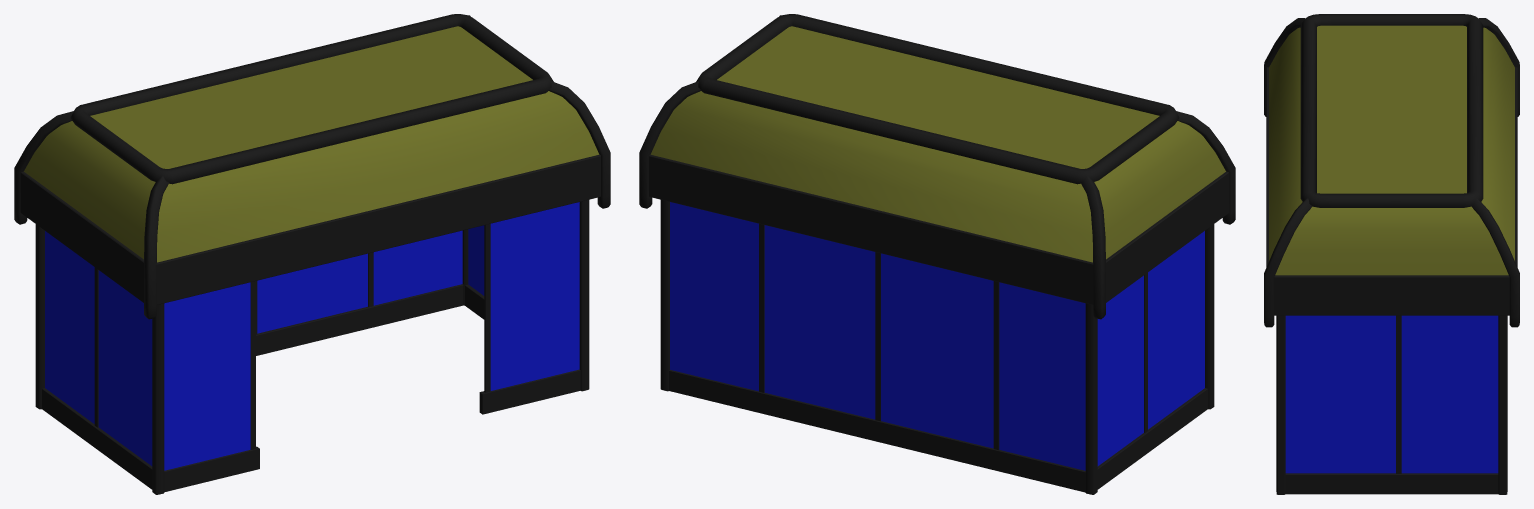
Rendered from Abris_bus_Metal_01.FBX.
3 renders of one model, left to right at view 1: azimuth 30°, elevation 25°; view 2: azimuth 150°, elevation 25°; view 3: azimuth 270°, elevation 25°, orthographic. The views are drawn at different scales.
Parts seen in each view (by area): view 1: Abris_bus_Metal_01_LOD0; view 2: Abris_bus_Metal_01_LOD0; view 3: Abris_bus_Metal_01_LOD0.
Boxes of the visible parts, box(x1,y1,x2,y2) form: Abris_bus_Metal_01_LOD0: box(14, 14, 610, 494); Abris_bus_Metal_01_LOD0: box(639, 14, 1235, 494); Abris_bus_Metal_01_LOD0: box(1264, 14, 1519, 494).
Bounding box in the file's own units: 789 × 496 × 398.
